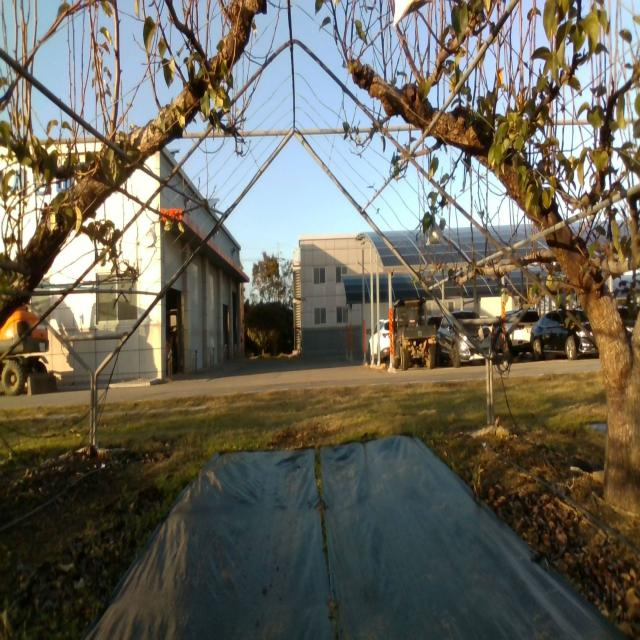pearbags: (425, 222, 445, 247), (145, 227, 157, 249)
